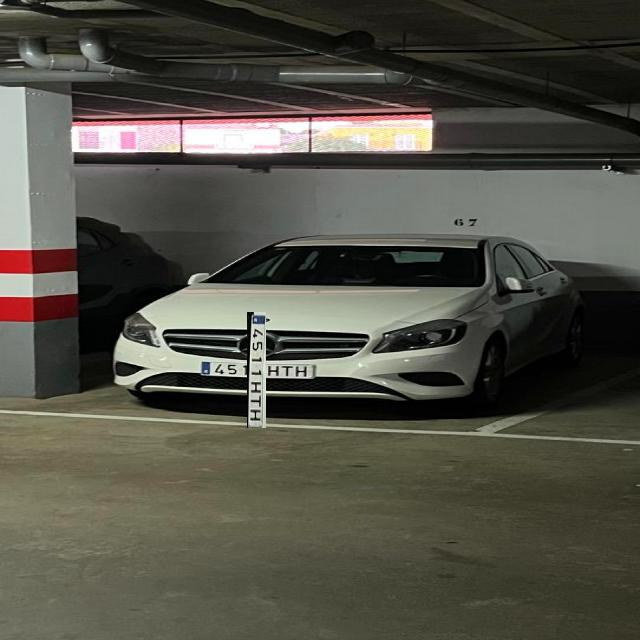License-Plate: (222, 336, 290, 404)
